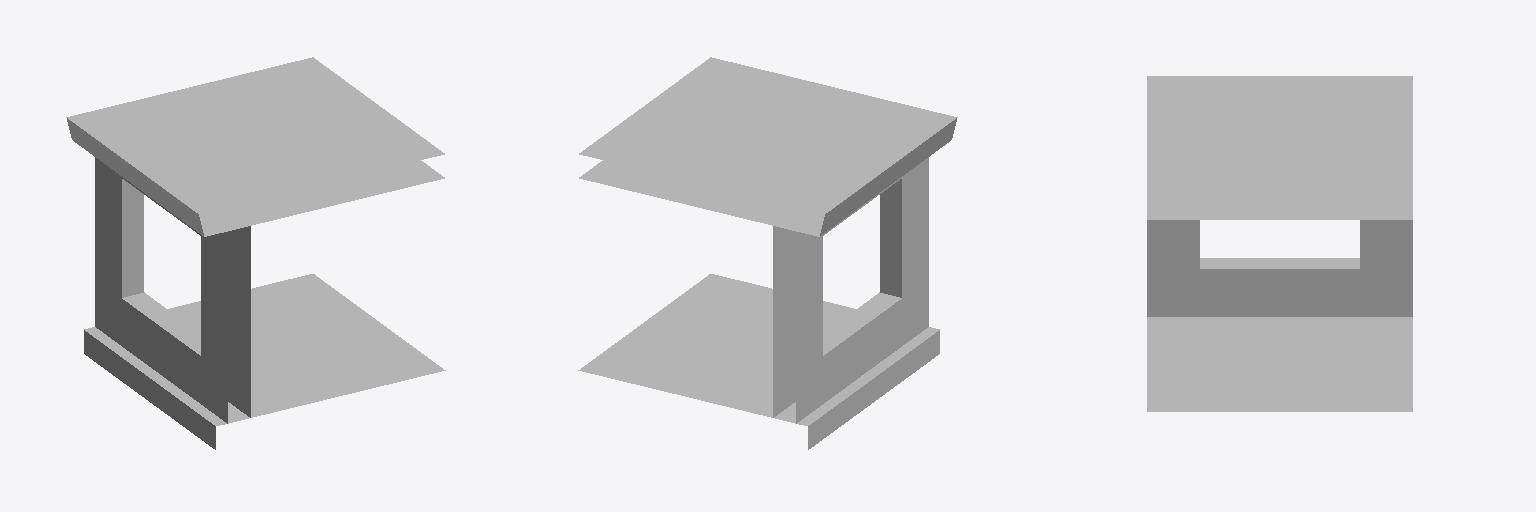
The model's file is worldtile25.obj.
3 views of the same model, side by side, from view 1: azimuth 30°, elevation 25°; view 2: azimuth 150°, elevation 25°; view 3: azimuth 270°, elevation 25° (orthographic).
Parts seen in each view (by area): view 1: objobjobjRegroup09; view 2: objobjobjRegroup09; view 3: objobjobjRegroup09.
Part boxes in pixels (x1,y1,x2,y2): objobjobjRegroup09: (66,57,445,449); objobjobjRegroup09: (578,57,957,449); objobjobjRegroup09: (1147,76,1412,411).
Size of the model in its own units: 10.75 by 10 by 10.